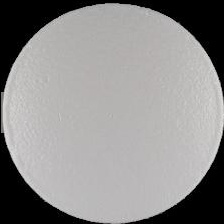51655-638: (0, 0, 224, 224)
